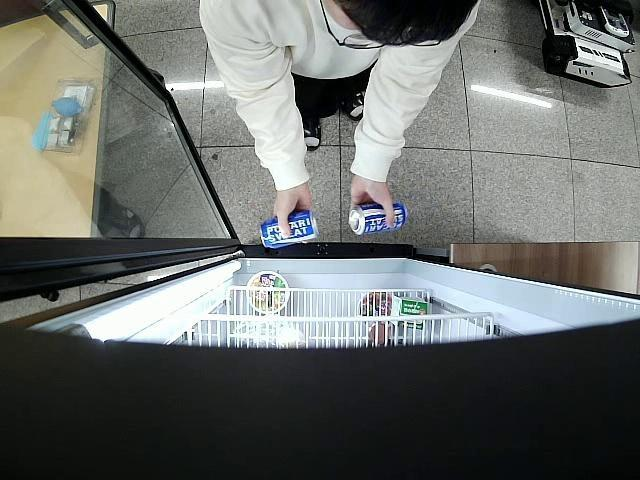13_pocariSweat: (259, 212, 320, 250), (349, 200, 408, 236)
